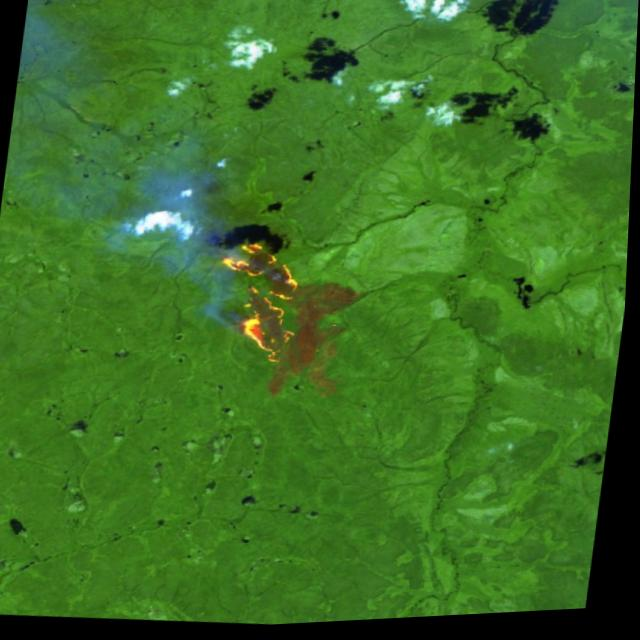fire: (208, 235, 318, 374)
